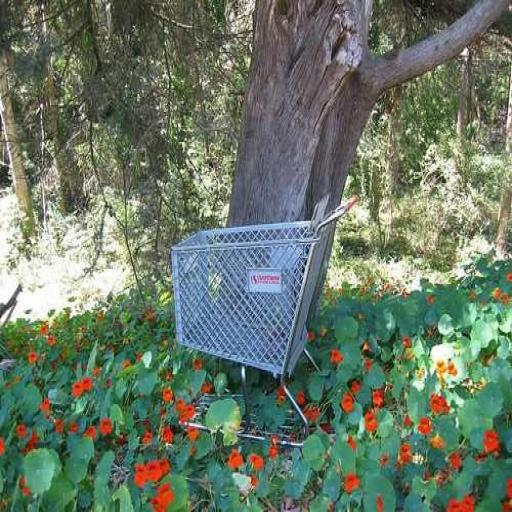shopping_cart: (171, 192, 359, 450)
